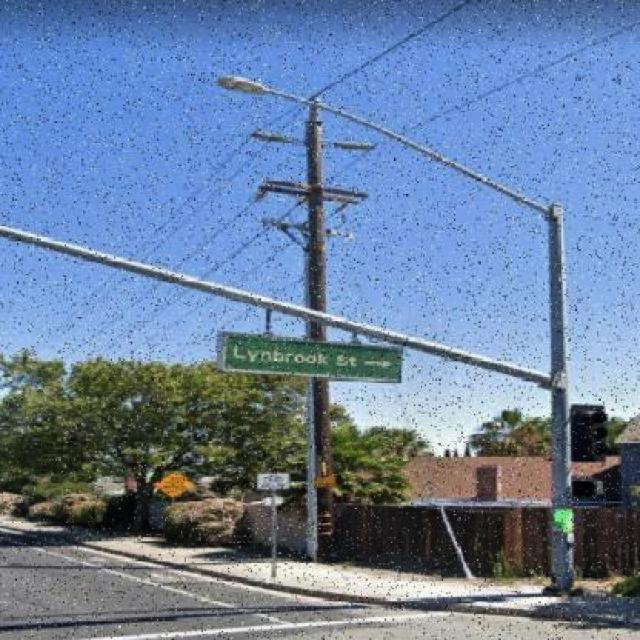crossarm: (257, 175, 369, 211)
pole: (306, 102, 334, 565)
wire: (99, 18, 640, 357), (314, 0, 477, 97)
